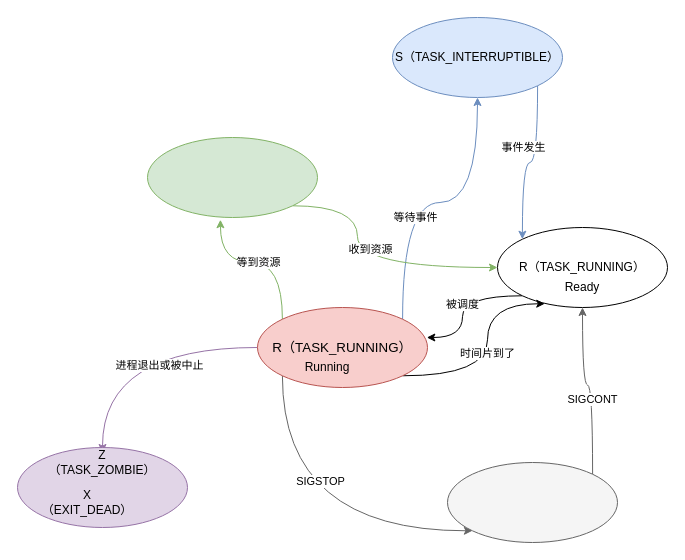
Some shapes in this 685 by 560 pixel diagram are drawn without their labels. Here are the shapes that lost their labels. From the top down, the centre of each, then its label:
At point 232,177: "D（TASK_UNINTERRUPTIBLE）".
At point 532,502: "T（TASK_STOPPED）".
